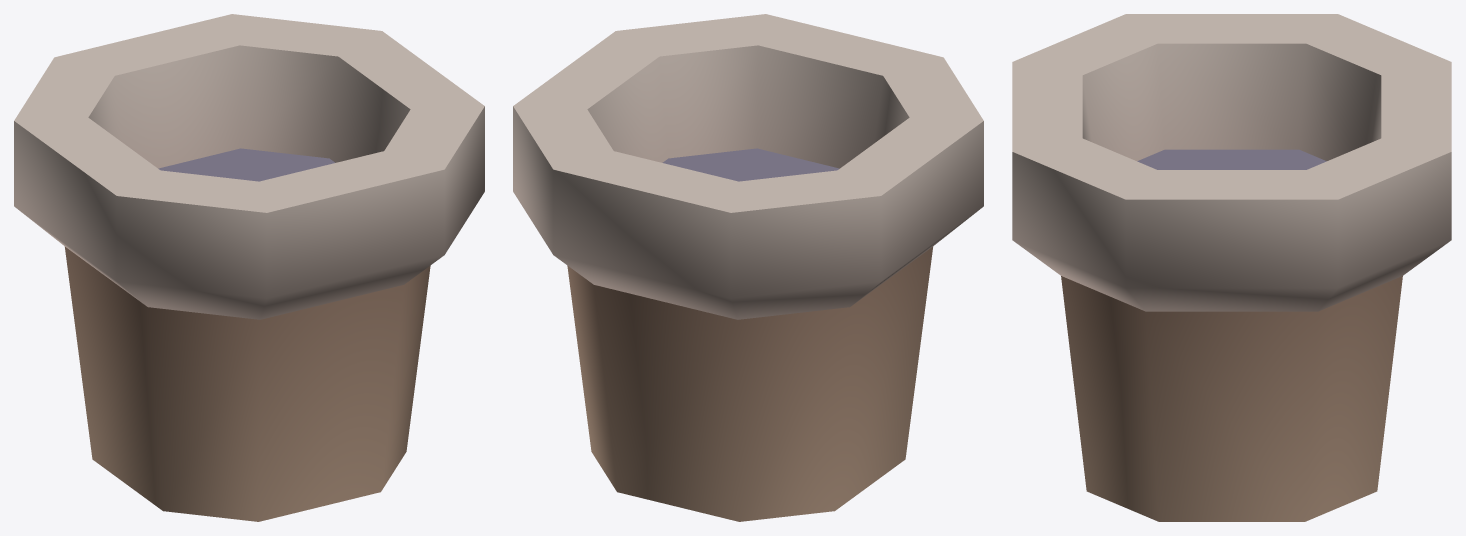
Rendered from plant-pot-medium.glb.
3 views of the same model, side by side, from view 1: azimuth 30°, elevation 25°; view 2: azimuth 150°, elevation 25°; view 3: azimuth 270°, elevation 25° (orthographic). The views are drawn at different scales.
Parts seen in each view (by area): view 1: plant-pot-medium; view 2: plant-pot-medium; view 3: plant-pot-medium.
Boxes of the visible parts, box(x1,y1,x2,y2) form: plant-pot-medium: box(14, 14, 484, 521); plant-pot-medium: box(513, 14, 983, 521); plant-pot-medium: box(1012, 14, 1451, 521).
Size of the model in its own units: 0.2253 by 0.2 by 0.2253.
